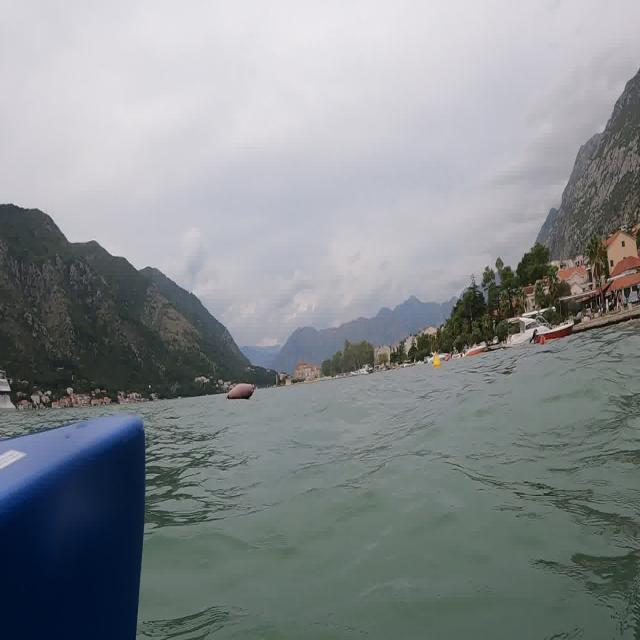boat: (502, 303, 580, 351)
buoy: (224, 374, 262, 406), (430, 358, 444, 372)
